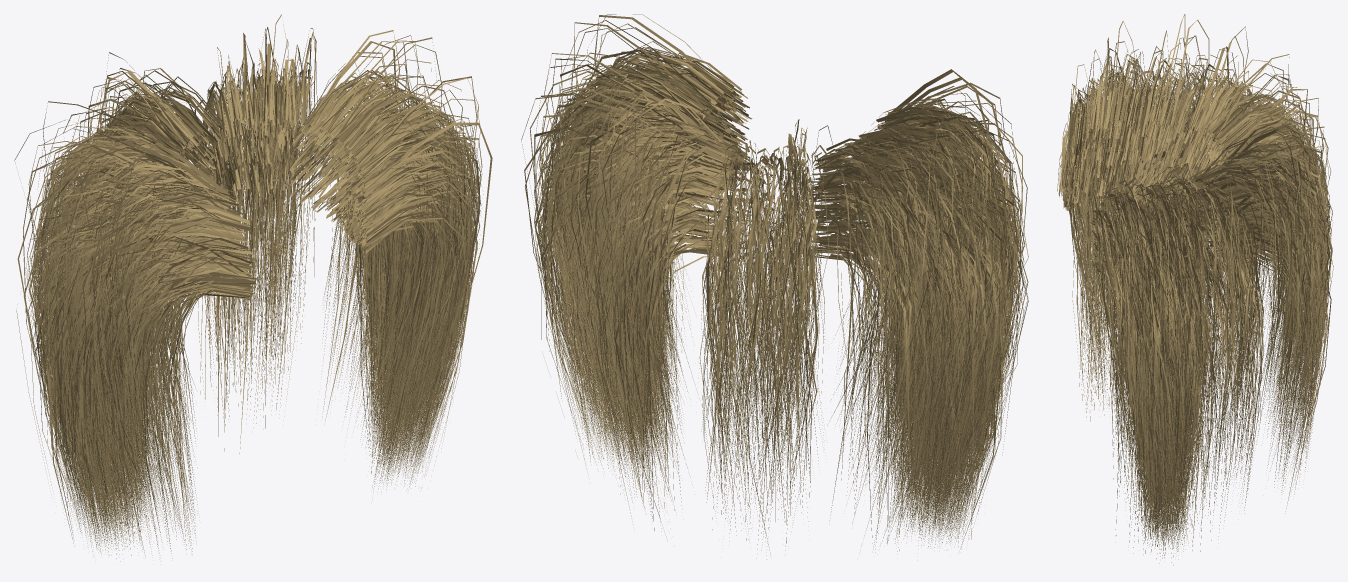
Rendered from clown-hair-desktop.glb.
3 views of the same model, side by side, from view 1: azimuth 30°, elevation 25°; view 2: azimuth 150°, elevation 25°; view 3: azimuth 270°, elevation 25° (orthographic). The views are drawn at different scales.
Visible parts, largest first — view 1: MattedBlondHair; view 2: MattedBlondHair; view 3: MattedBlondHair.
Part boxes in pixels (x1,y1,x2,y2): MattedBlondHair: [14, 14, 492, 561]; MattedBlondHair: [521, 14, 1028, 558]; MattedBlondHair: [1057, 14, 1333, 565].
Bounding box in the file's own units: 0.7548 × 0.6951 × 0.4273.
